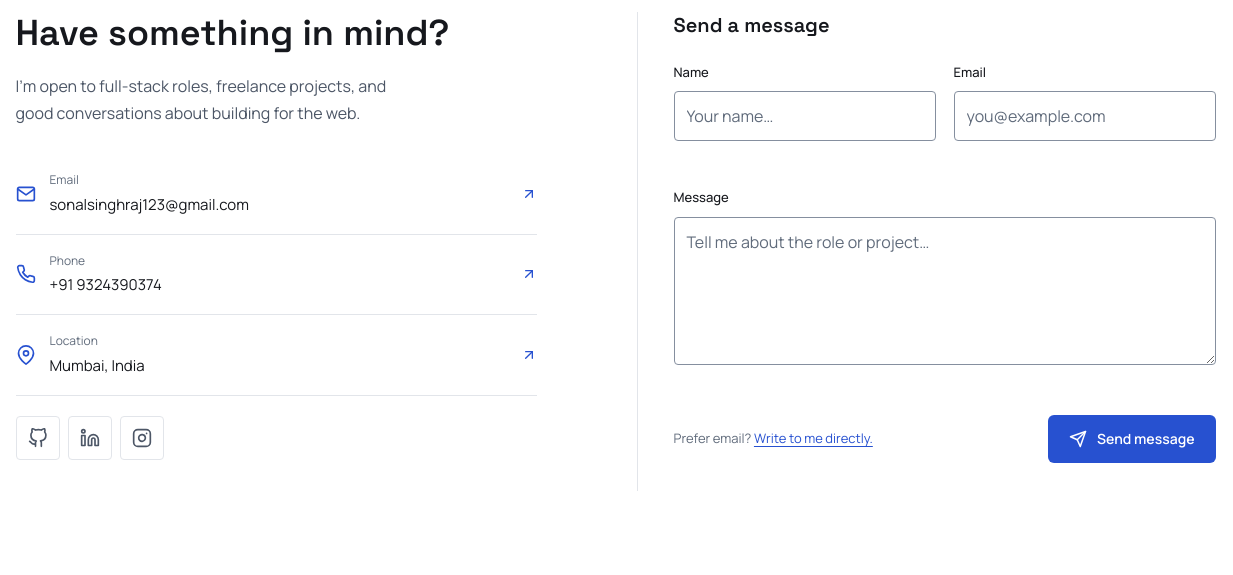
Test: contact trims submitted values while preserving the draft on failure
The image size is (1233, 575).
Type "UI Test" into the field labelled "Name" at (804, 116), box 674,91 -> 936,141
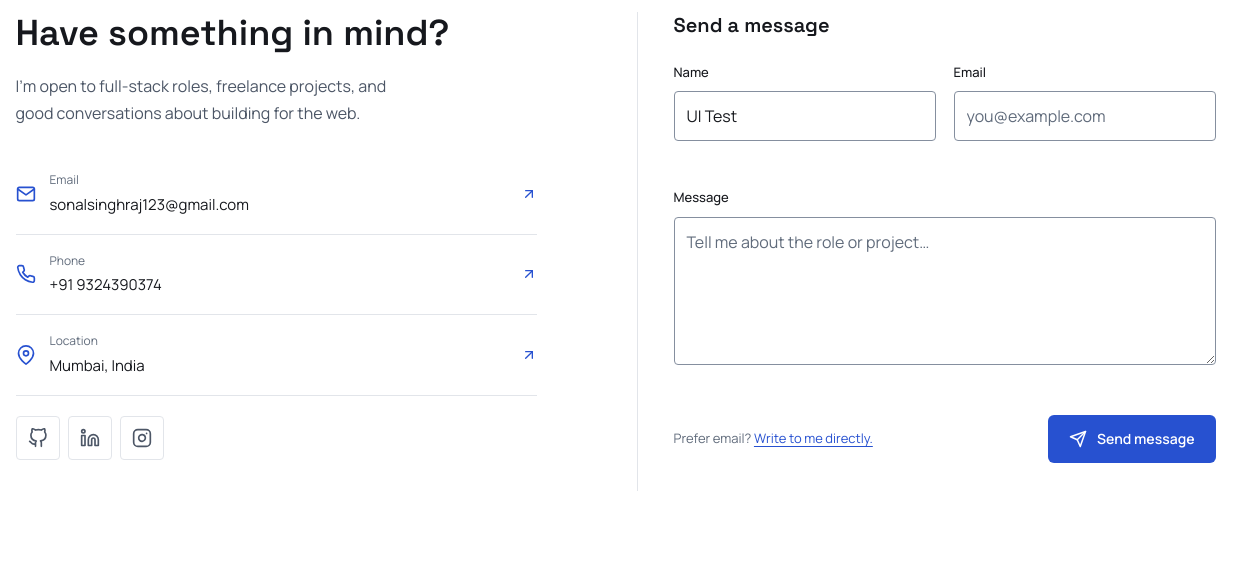
Type "ui-test@example.com" into the field labelled "Email" at (1084, 116), box 954,91 -> 1216,141
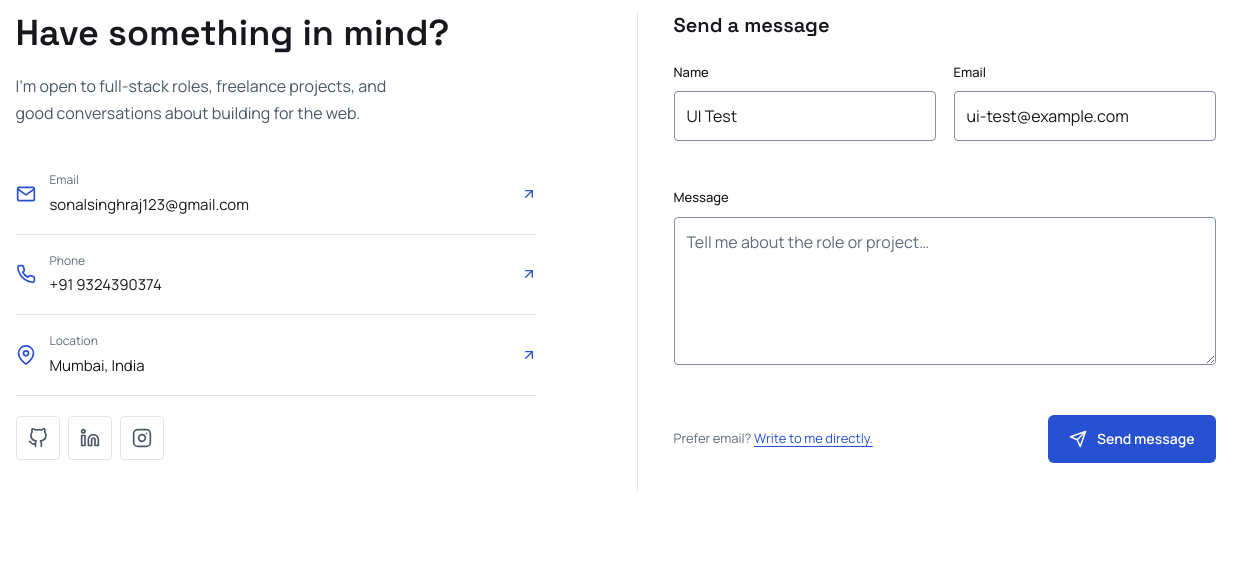
Type "Testing the local contact interface." into the text box labelled "Message" at (944, 291), box 674,217 -> 1216,365
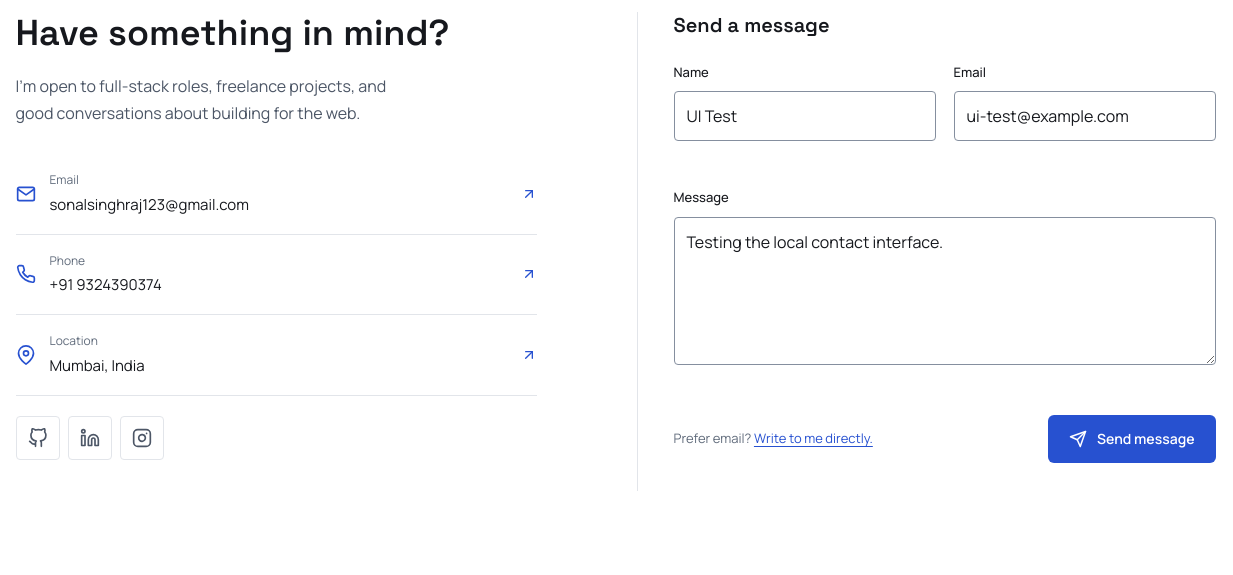
Replace the text in the field labelled "Name" with " UI Test " at (804, 116), box 674,91 -> 936,141
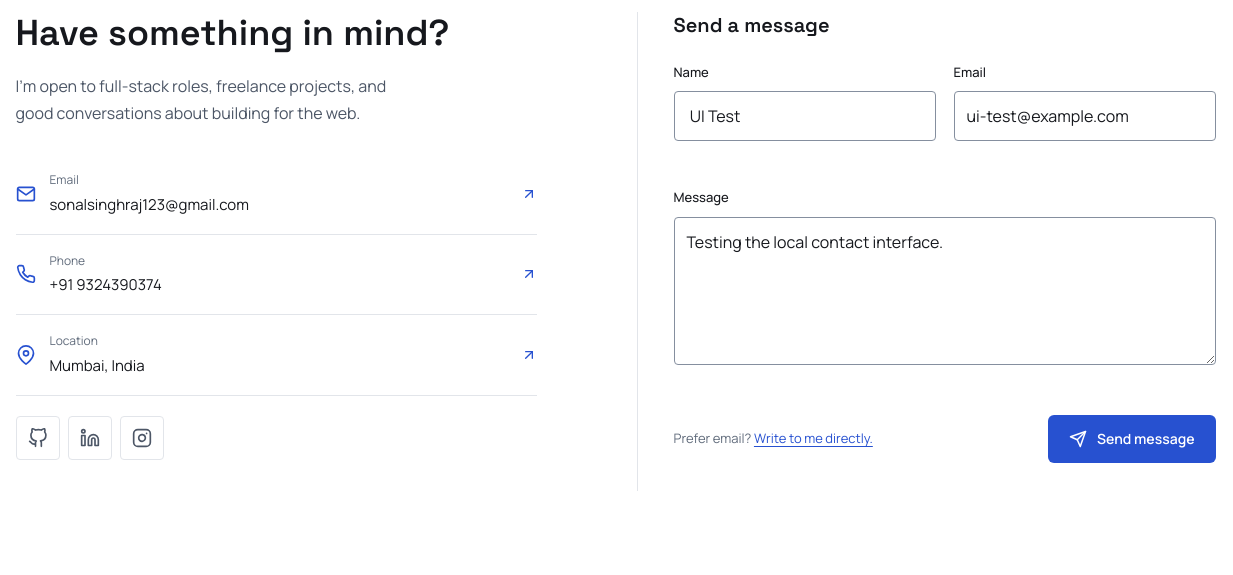
Replace the text in the text box labelled "Message" with " A project enquiry. " at (944, 291), box 674,217 -> 1216,365
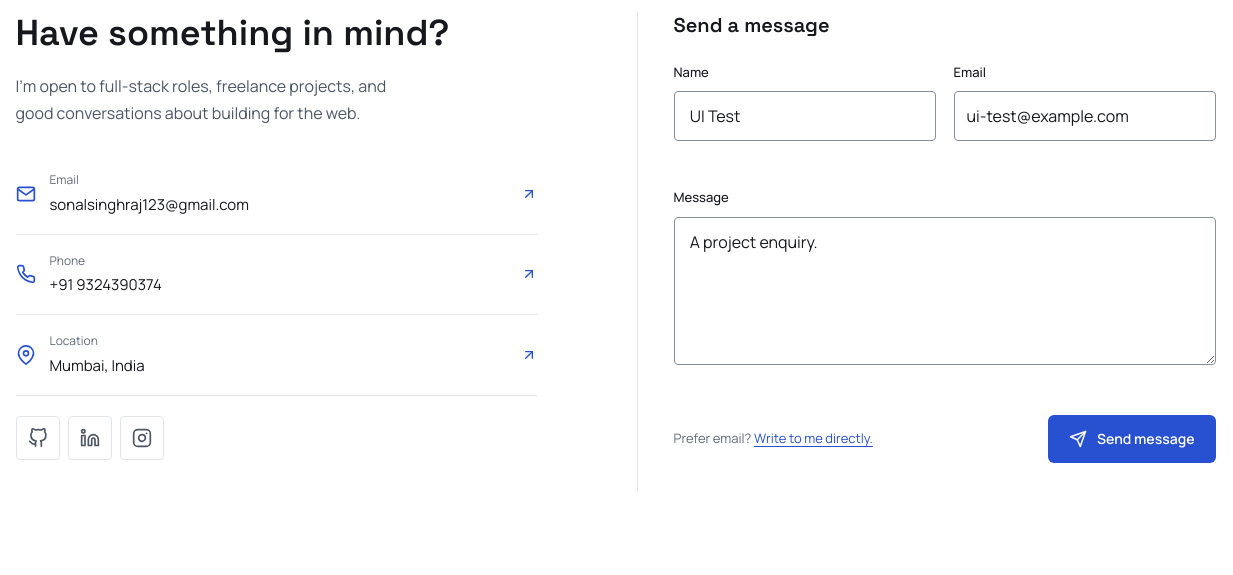
Click the button "Send message" at (1132, 439), box 1048,415 -> 1216,463
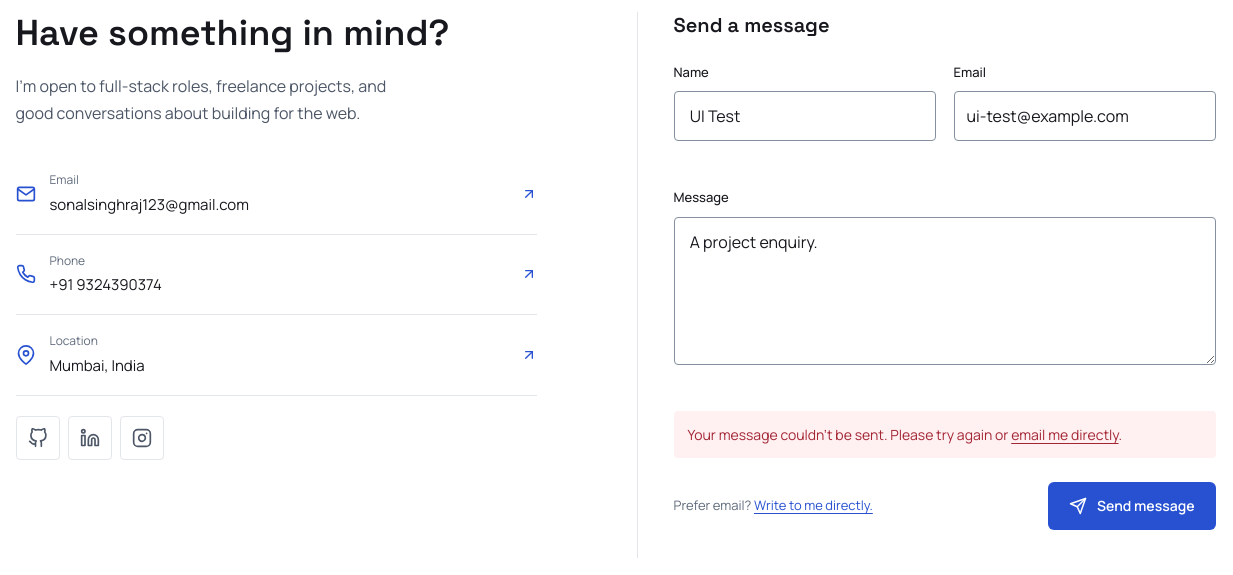
Now the message "Your message couldn't be sent. Please try again or email me directly ." is shown, box 674,411 -> 1216,458
